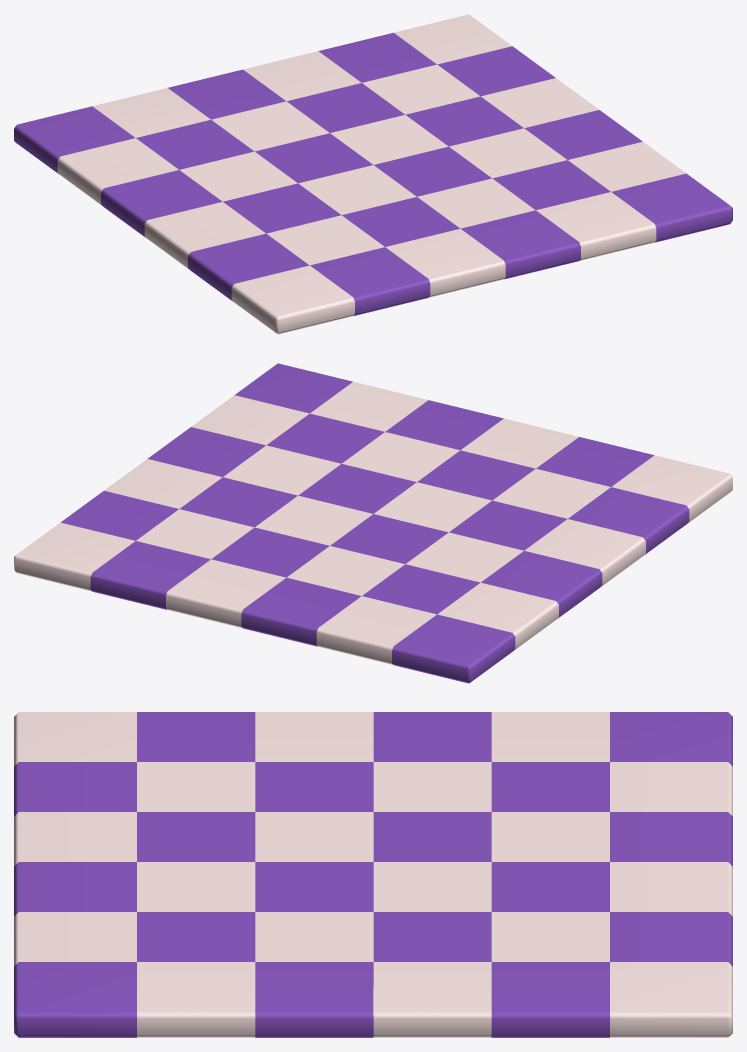
The model's file is Store_13_Vinyl_Box_3.glb.
3 renders of one model, top to bottom at view 1: azimuth 30°, elevation 25°; view 2: azimuth 150°, elevation 25°; view 3: azimuth 270°, elevation 25°, orthographic. The views are drawn at different scales.
Parts seen in each view (by area): view 1: Store_13_Vinyl_Box_3; view 2: Store_13_Vinyl_Box_3; view 3: Store_13_Vinyl_Box_3.
Boxes of the visible parts, bbox=[...] form: Store_13_Vinyl_Box_3: bbox=[14, 14, 732, 334]; Store_13_Vinyl_Box_3: bbox=[14, 363, 732, 683]; Store_13_Vinyl_Box_3: bbox=[14, 712, 732, 1037].
Bounding box in the file's own units: 0.4309 × 0.0171 × 0.4309.
Materials: 1 (1 with a texture image).
